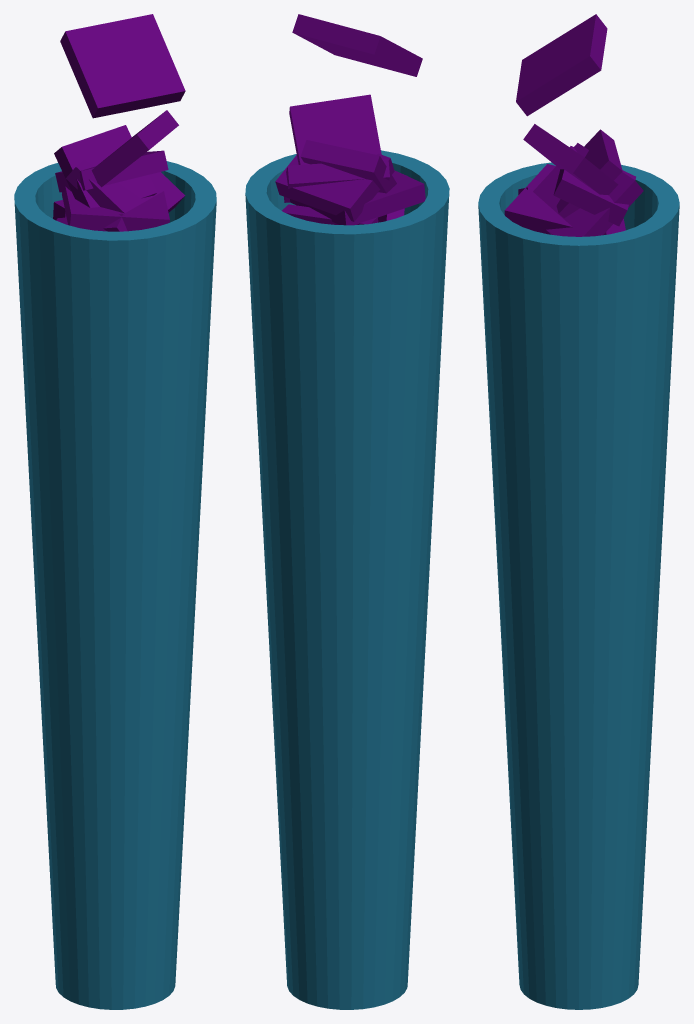
Rendered from firework.glb.
3 views of the same model, side by side, from view 1: azimuth 30°, elevation 25°; view 2: azimuth 150°, elevation 25°; view 3: azimuth 270°, elevation 25° (orthographic).
Parts seen in each view (by area): view 1: Cylinder.005, Cube.034, Cube.035, Cube.033, Cube.029, Cube.025, Cube.032; view 2: Cylinder.005, Cube.025, Cube.034, Cube.032, Cube.035, Cube.033, Cube.029, Cube.021; view 3: Cylinder.005, Cube.034, Cube.029, Cube.025, Cube.033, Cube.032, Cube.035.
Part boxes in pixels (x1,y1,x2,y2): Cylinder.005: [14, 161, 216, 1009]; Cube.034: [60, 14, 185, 118]; Cube.035: [54, 125, 157, 207]; Cube.033: [62, 186, 169, 231]; Cube.029: [66, 160, 185, 213]; Cube.025: [91, 110, 178, 187]; Cube.032: [55, 150, 168, 192]; Cylinder.005: [245, 150, 449, 1009]; Cube.025: [289, 94, 381, 164]; Cube.034: [292, 14, 422, 76]; Cube.032: [275, 153, 394, 221]; Cube.035: [300, 140, 396, 193]; Cube.033: [290, 170, 425, 225]; Cube.029: [284, 159, 389, 202]; Cube.021: [282, 204, 378, 224]; Cylinder.005: [478, 162, 679, 1009]; Cube.034: [516, 14, 607, 116]; Cube.029: [533, 143, 643, 236]; Cube.025: [523, 124, 618, 195]; Cube.033: [504, 164, 572, 234]; Cube.032: [553, 146, 635, 226]; Cube.035: [556, 129, 622, 218].
Size of the model in its own units: 2 by 10.41 by 2.
